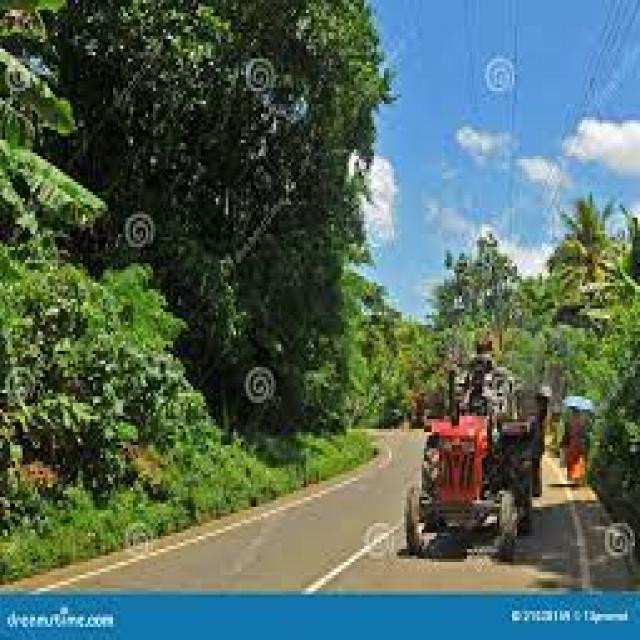person: (562, 396, 592, 484), (469, 361, 489, 416)
tractor: (407, 413, 537, 559)
